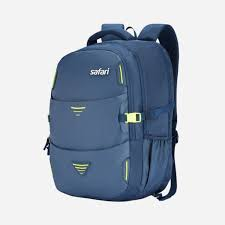backpack: (43, 22, 179, 201)
